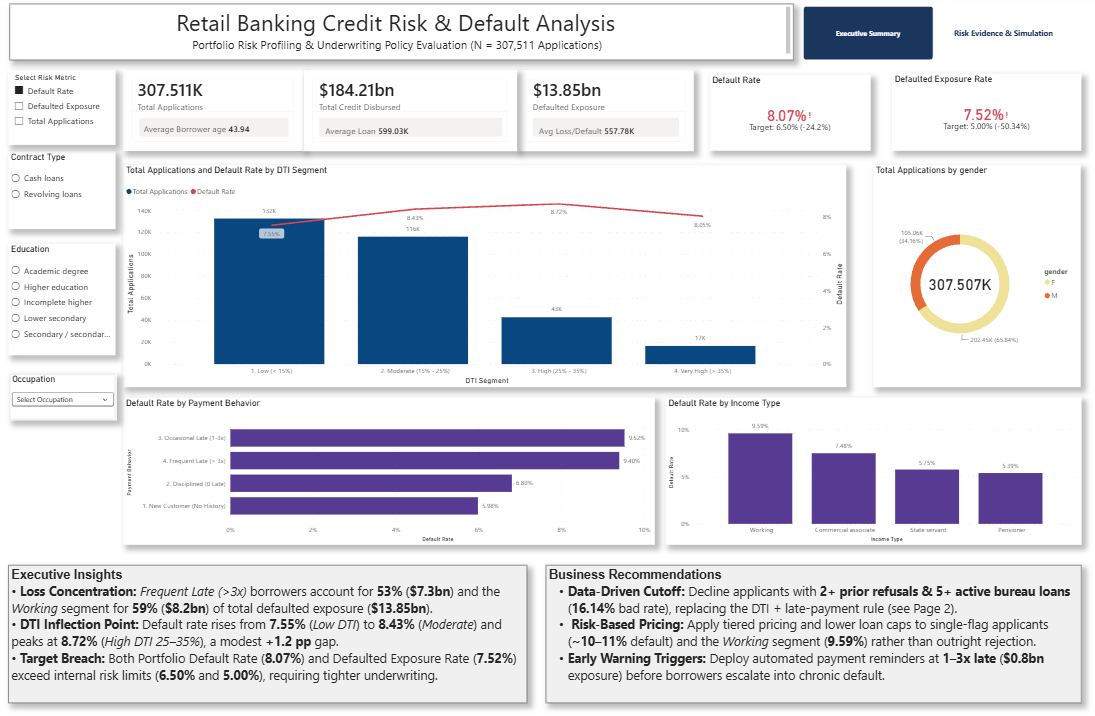

This screenshot's page, from the dashboard's own definition file:
{"tool":"powerbi","page":{"name":"Executive Summary","canvas":[2110,1399],"ordinal":0},"visuals":[{"type":"cardVisual","fields":{"Data":["public master_credit_risk.Total Applications"]},"box":[250,142,342,154],"z":0},{"type":"kpi","title":"Default Rate","fields":{"Goal":["public master_credit_risk.Target Default Rate"],"Indicator":["public master_credit_risk.Default Rate"],"TrendLine":["public master_credit_risk.Portfolio"]},"box":[1364,152,306,144],"z":1000},{"type":"lineStackedColumnComboChart","fields":{"Category":["public master_credit_risk.DTI Segment"],"Y":["public master_credit_risk.Total Applications"],"Y2":["public master_credit_risk.Default Rate"]},"box":[250,324,1374,422],"z":2000},{"type":"cardVisual","fields":{"Data":["public master_credit_risk.Defaulted Exposure"]},"box":[998,142,336,154],"z":3000},{"type":"kpi","title":"Defaulted Exposure Rate","fields":{"Goal":["public master_credit_risk.Target Loss Rate"],"Indicator":["public master_credit_risk.Loss Rate"],"TrendLine":["public master_credit_risk.Portfolio"]},"box":[1710,150,360,146],"z":4000},{"type":"donutChart","fields":{"Category":["public master_credit_risk.gender"],"Y":["public master_credit_risk.Total Applications"]},"box":[1676,324,394,422],"z":5000},{"type":"clusteredBarChart","fields":{"Category":["public master_credit_risk.Payment Behavior"],"Y":["public master_credit_risk.Default Rate"]},"box":[250,766,1010,280],"z":6000},{"type":"clusteredColumnChart","title":"Default Rate by Income Type","fields":{"Category":["public master_credit_risk.income_type"],"Y":["public master_credit_risk.Default Rate"]},"box":[1280,766,790,280],"z":7000},{"type":"cardVisual","fields":{"Data":["public master_credit_risk.Total Credit Disbursed"]},"box":[592,142,406,154],"z":8000},{"type":"listSlicer","title":"Education","fields":{"Values":["public master_credit_risk.education_type"]},"box":[32,472,204,212],"z":9000},{"type":"listSlicer","title":"Occupation","fields":{"Values":["public master_credit_risk.occupation_type"]},"box":[32.5,720,203.8,88.8],"z":10000},{"type":"listSlicer","title":"Contract Type","fields":{"Values":["public master_credit_risk.contract_type"]},"box":[32,296,204,148],"z":11000},{"type":"slicer","fields":{"Values":["Select Risk Metric.Select Risk Metric"]},"box":[32,142,204,142],"z":12000},{"type":"textbox","box":[32,1084,986,262],"z":13000},{"type":"textbox","box":[1052,1084,1018,262],"z":14000},{"type":"textbox","box":[32.5,17.5,1490,107.5],"z":15000},{"type":"pageNavigator","box":[1542.5,22.5,505,102.5],"z":16000}]}

Visuals, with their boxes in screenshot pixels (x1, y1, x2, y2), scaled from the page's 2110x1399 canvas onto the 1095x716 screenshot:
cardVisual - public master_credit_risk.Total Applications: region(130, 73, 307, 151)
"Default Rate" kpi: region(708, 78, 867, 151)
lineStackedColumnComboChart - public master_credit_risk.DTI Segment x public master_credit_risk.Total Applications: region(130, 166, 843, 382)
cardVisual - public master_credit_risk.Defaulted Exposure: region(518, 73, 692, 151)
"Defaulted Exposure Rate" kpi: region(887, 77, 1074, 151)
donutChart - public master_credit_risk.gender x public master_credit_risk.Total Applications: region(870, 166, 1074, 382)
clusteredBarChart - public master_credit_risk.Payment Behavior x public master_credit_risk.Default Rate: region(130, 392, 654, 535)
"Default Rate by Income Type" clusteredColumnChart: region(664, 392, 1074, 535)
cardVisual - public master_credit_risk.Total Credit Disbursed: region(307, 73, 518, 151)
"Education" listSlicer: region(17, 242, 122, 350)
"Occupation" listSlicer: region(17, 368, 123, 414)
"Contract Type" listSlicer: region(17, 151, 122, 227)
slicer - Select Risk Metric.Select Risk Metric: region(17, 73, 122, 145)
textbox: region(17, 555, 528, 689)
textbox: region(546, 555, 1074, 689)
textbox: region(17, 9, 790, 64)
pageNavigator: region(800, 12, 1063, 64)
